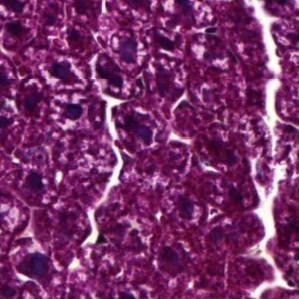inflammation: (141, 51, 189, 108), (39, 53, 90, 91)
